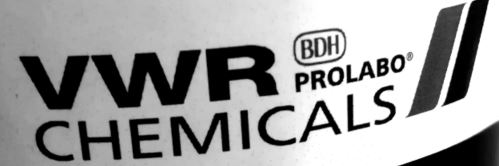VWR: (15, 1, 491, 164)
